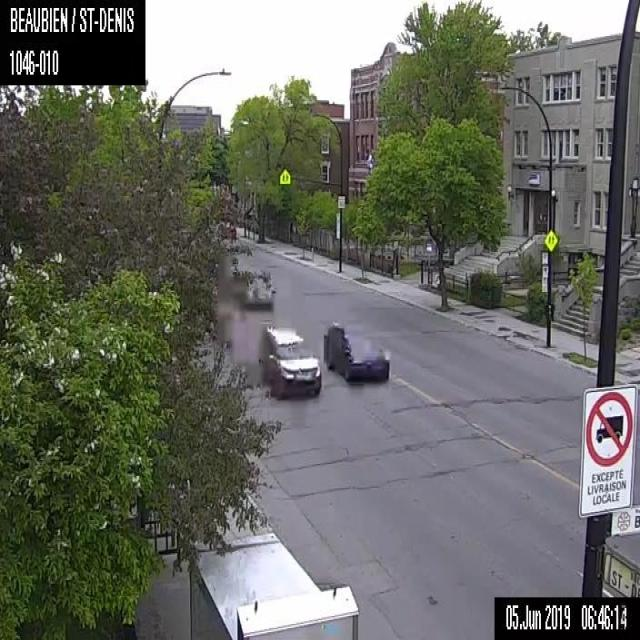vehicle: (255, 316, 321, 400), (324, 321, 389, 381), (245, 274, 272, 310)
